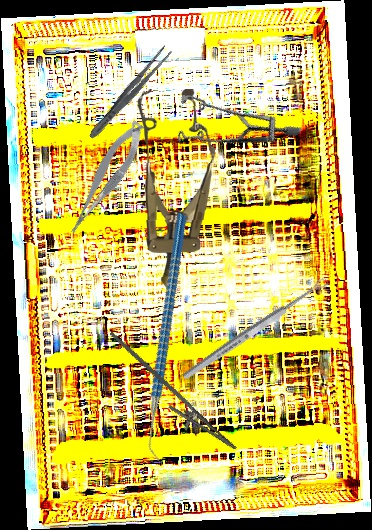Chopper: (73, 212, 267, 464)
Dressing Forceps: (85, 43, 174, 143)
Micro Scissor: (54, 117, 156, 239)
Needle Holder: (89, 330, 250, 462)
Speculum: (158, 56, 303, 198), (130, 88, 216, 295)
Surgical Spoon: (181, 276, 330, 382)
